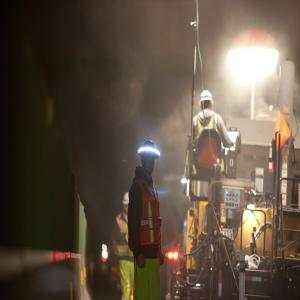blue: (141, 142, 158, 176)
white: (201, 91, 214, 112)
